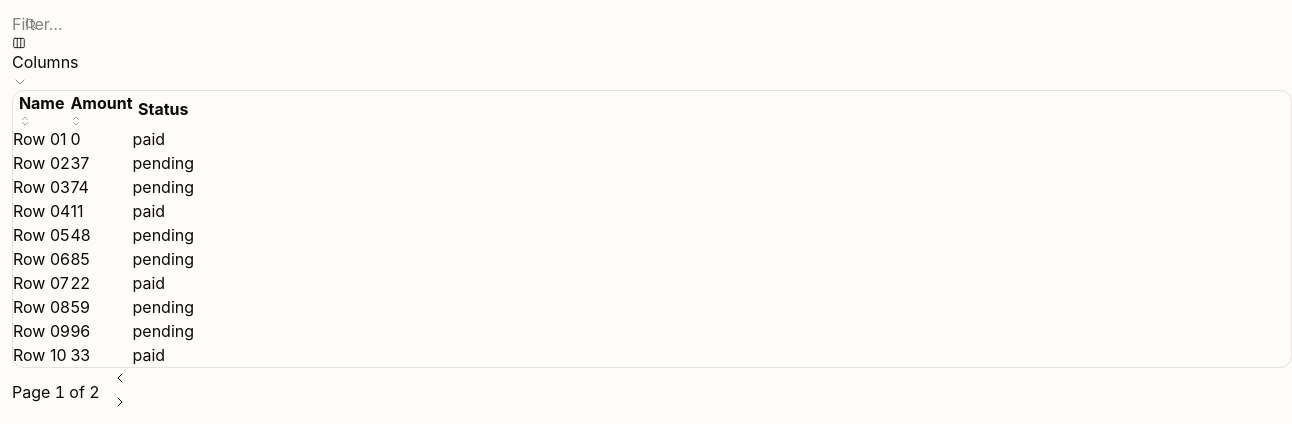
Scenario: DataTable › narrows rows with the filter
Type "Row 11" into the field with placeholder "Filter…" at (136, 24), box [12,12,260,36]
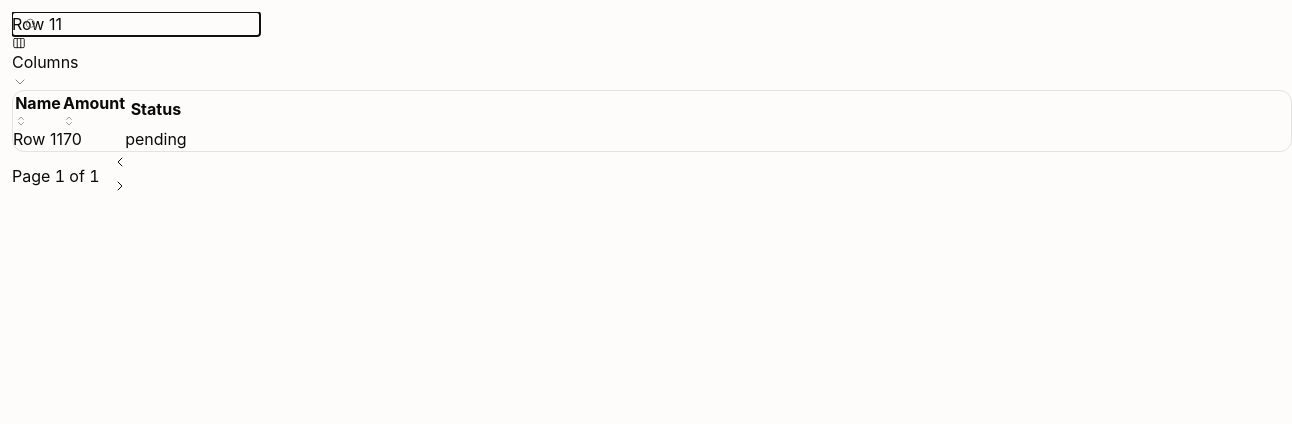
Now the text "Row 11" is shown, box [13,127,63,151]
Now the text "Row 01" is gone
Now the text "Page 1 of 1" is shown, box [12,164,100,188]
